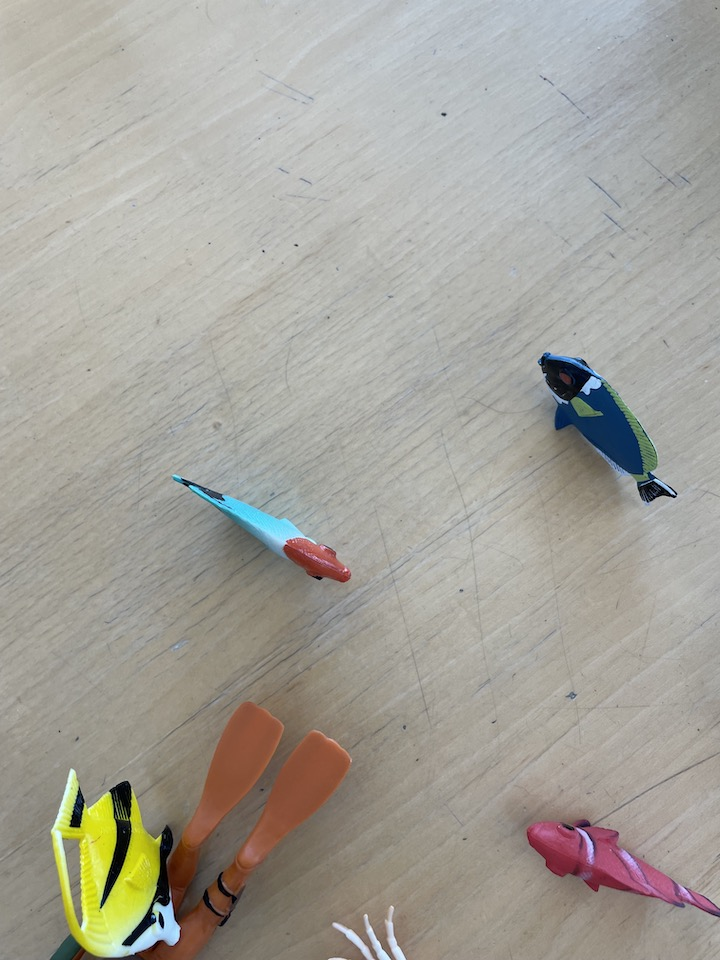crab: (320, 901, 412, 960)
danger: (49, 767, 185, 957)
diver: (47, 696, 353, 960)
fish: (533, 346, 684, 511), (165, 462, 356, 588), (523, 813, 720, 921)
